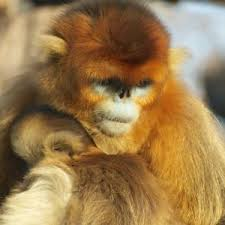GoldenSnub-Nosed: (41, 6, 206, 217)
